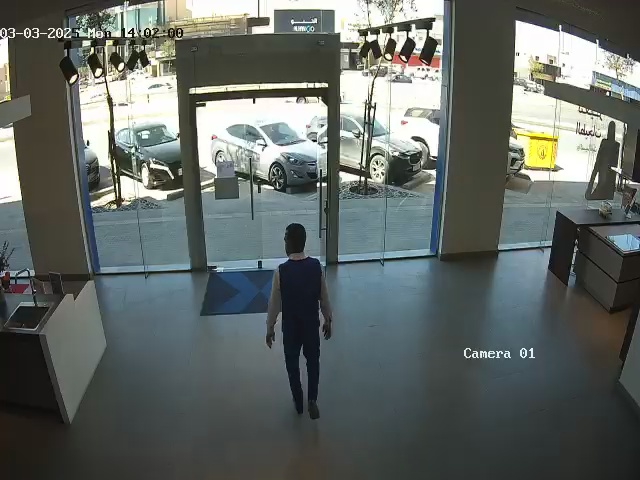employee: (265, 222, 333, 421)
other: (585, 103, 633, 214)
